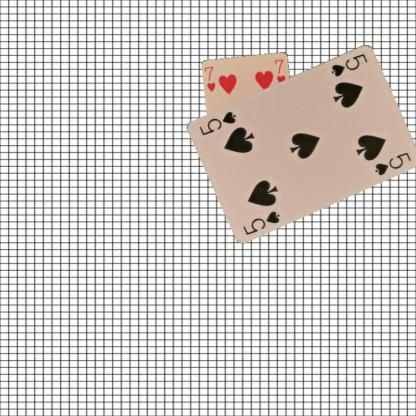5s: (240, 208, 282, 236), (328, 51, 370, 77)
7h: (202, 64, 217, 93)
